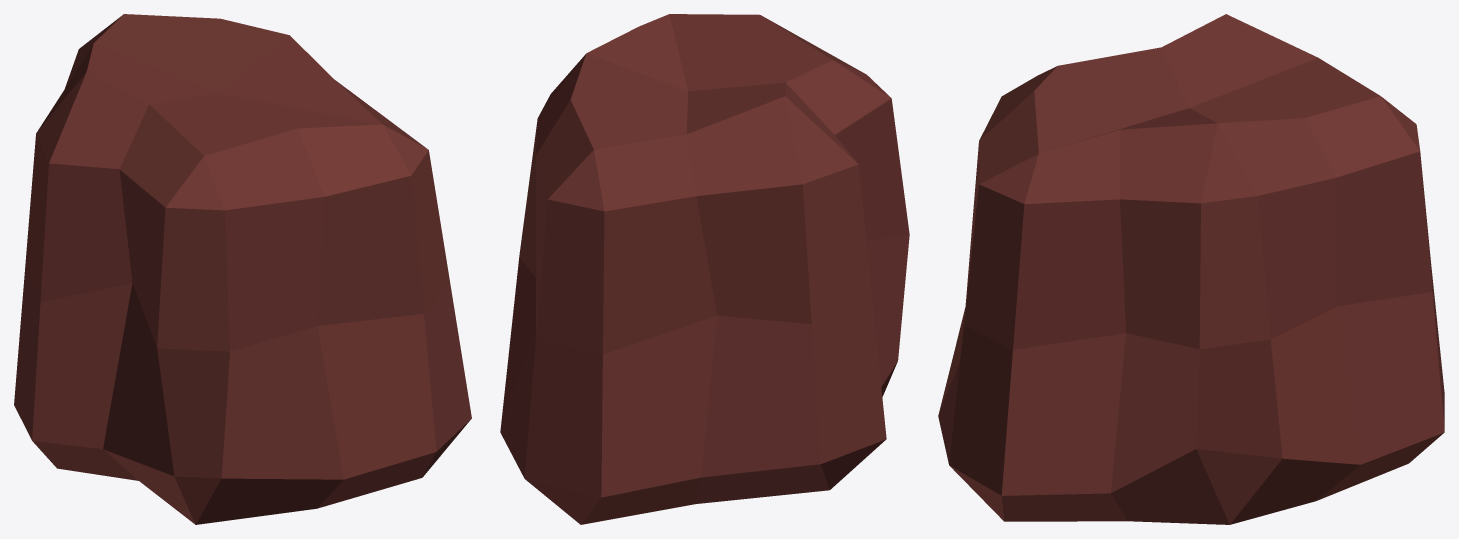
The model's file is Rock_9_Red.fbx.
3 renders of one model, left to right at view 1: azimuth 30°, elevation 25°; view 2: azimuth 150°, elevation 25°; view 3: azimuth 270°, elevation 25°, orthographic. The views are drawn at different scales.
Parts seen in each view (by area): view 1: Rock_9_Red; view 2: Rock_9_Red; view 3: Rock_9_Red.
Part boxes in pixels (<box>): Rock_9_Red: <box>14,14,471,524</box>; Rock_9_Red: <box>500,14,909,524</box>; Rock_9_Red: <box>938,14,1444,524</box>.
Bounding box in the file's own units: 303 × 314 × 367.
